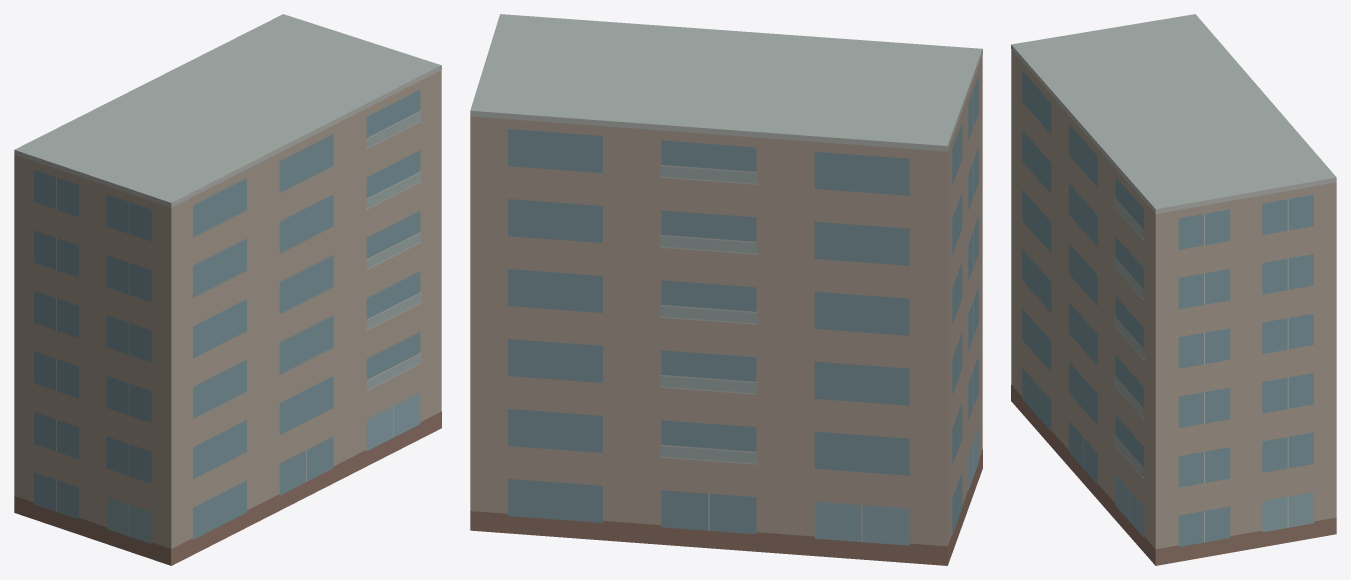
The model's file is survey-upis-32646688.glb.
3 views of the same model, side by side, from view 1: azimuth 30°, elevation 25°; view 2: azimuth 150°, elevation 25°; view 3: azimuth 270°, elevation 25° (orthographic). The views are drawn at different scales.
Parts seen in each view (by area): view 1: survey-upis-32646688.tmp; view 2: survey-upis-32646688.tmp; view 3: survey-upis-32646688.tmp.
Boxes of the visible parts, x1,y1,x2,y2 form: survey-upis-32646688.tmp: (14,14,441,565); survey-upis-32646688.tmp: (470,14,982,565); survey-upis-32646688.tmp: (1011,14,1336,565).
Bounding box in the file's own units: 21.5 × 18.3 × 15.15.
